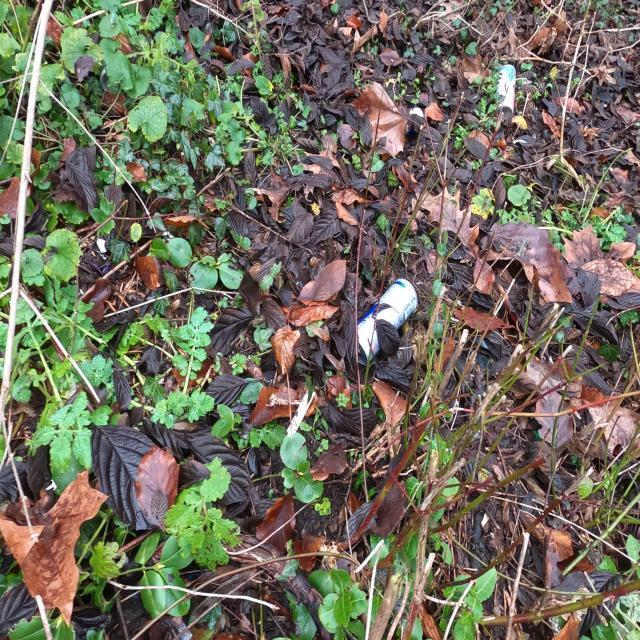Can-Metal: (349, 278, 421, 359), (496, 65, 516, 119)
